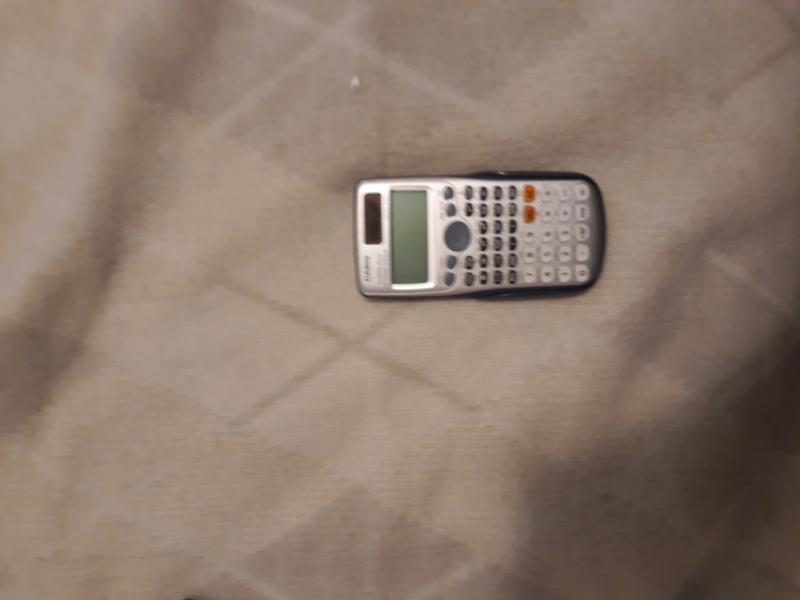CASIO_fx_991ES_PLUS: (346, 163, 627, 302)
